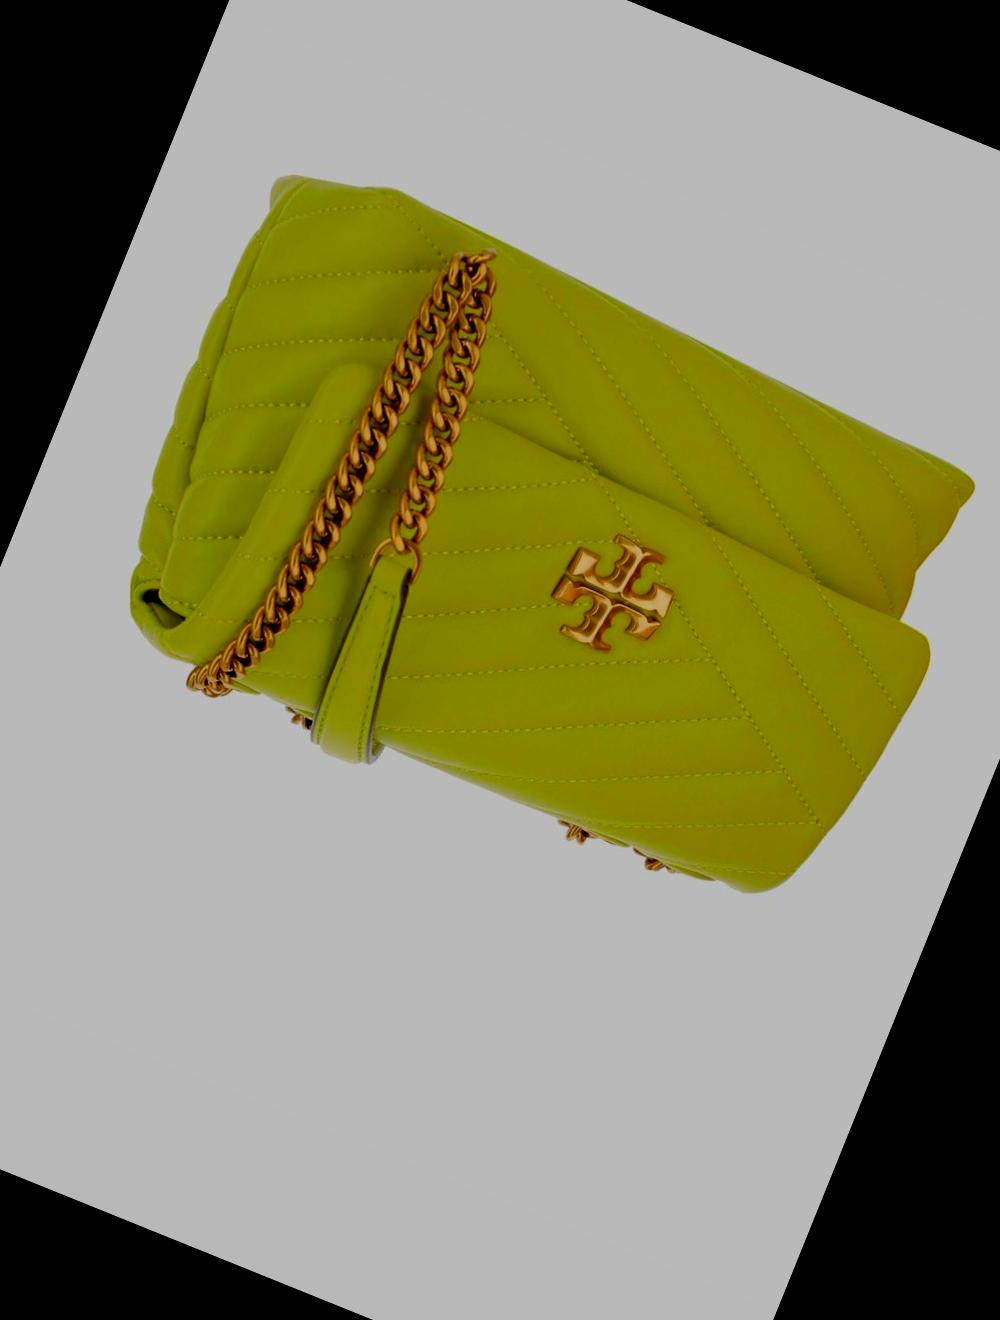TORY-BURCH: (537, 517, 686, 669)
